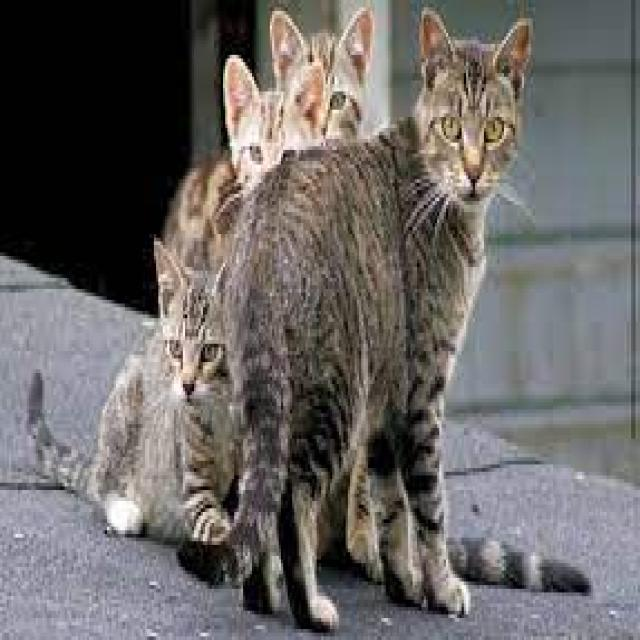cat: (224, 12, 528, 628), (27, 244, 240, 583), (155, 57, 329, 296), (271, 8, 373, 138)
